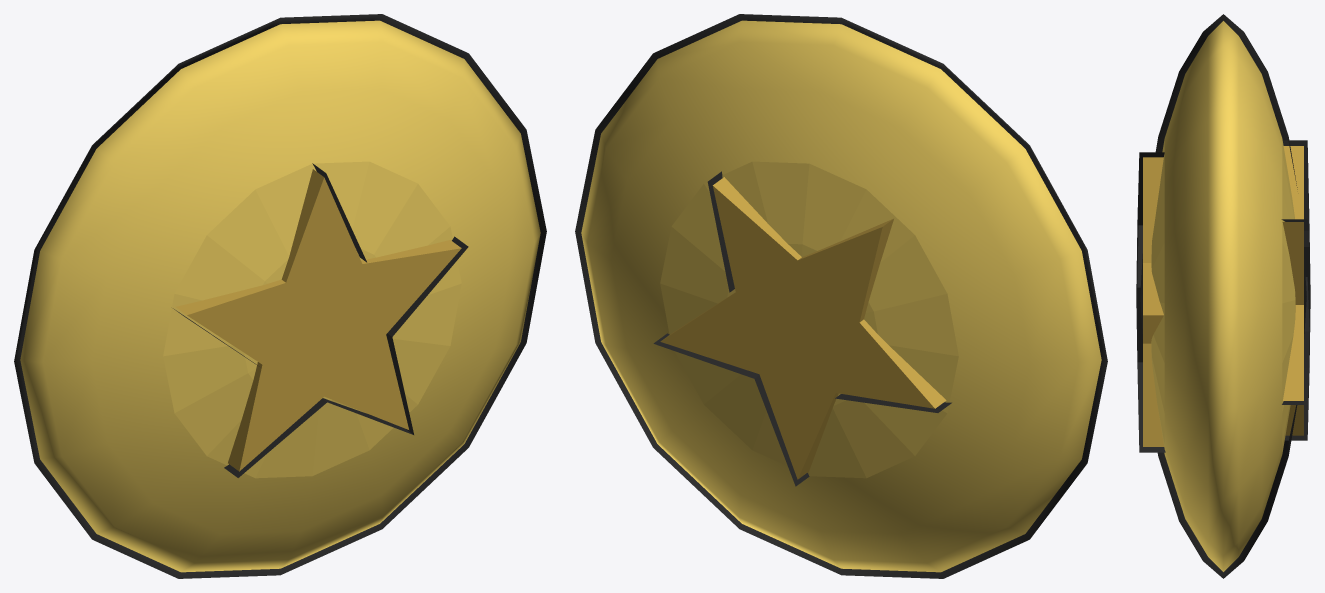
Rendered from td_coin.fbx.
The picture shows the model from 3 angles, left to right: view 1: azimuth 30°, elevation 25°; view 2: azimuth 150°, elevation 25°; view 3: azimuth 270°, elevation 25°; orthographic projection. The views are drawn at different scales.
Visible parts, largest first — view 1: Prop_Coin; view 2: Prop_Coin; view 3: Prop_Coin.
Part boxes in pixels (x1,y1,x2,y2): Prop_Coin: [14, 14, 546, 578]; Prop_Coin: [575, 14, 1107, 578]; Prop_Coin: [1136, 14, 1310, 578].
Bounding box in the file's own units: 22.12 × 22.12 × 6.82.
